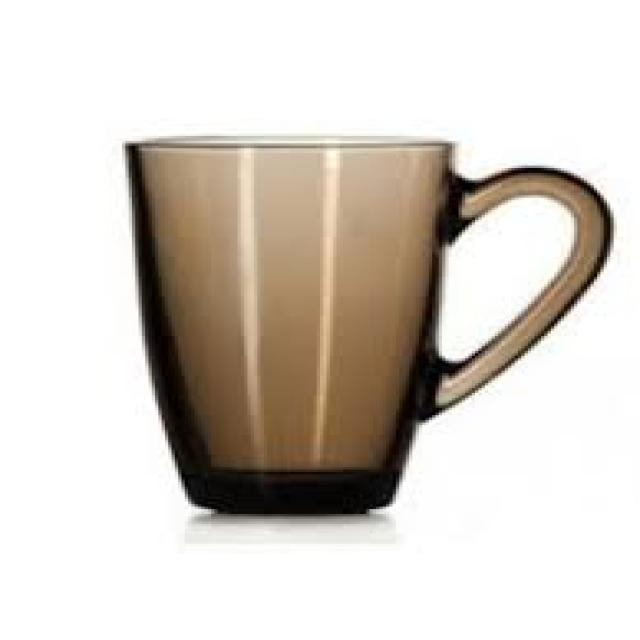glass: (122, 136, 610, 514)
